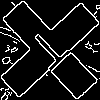T: (25, 25, 79, 80)
